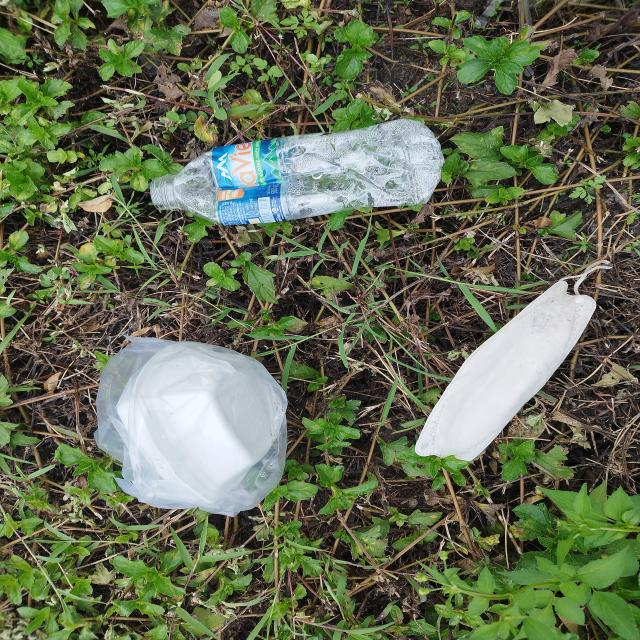bottle: (151, 119, 445, 227)
mask: (414, 256, 613, 462)
trash bag: (93, 334, 289, 517)
